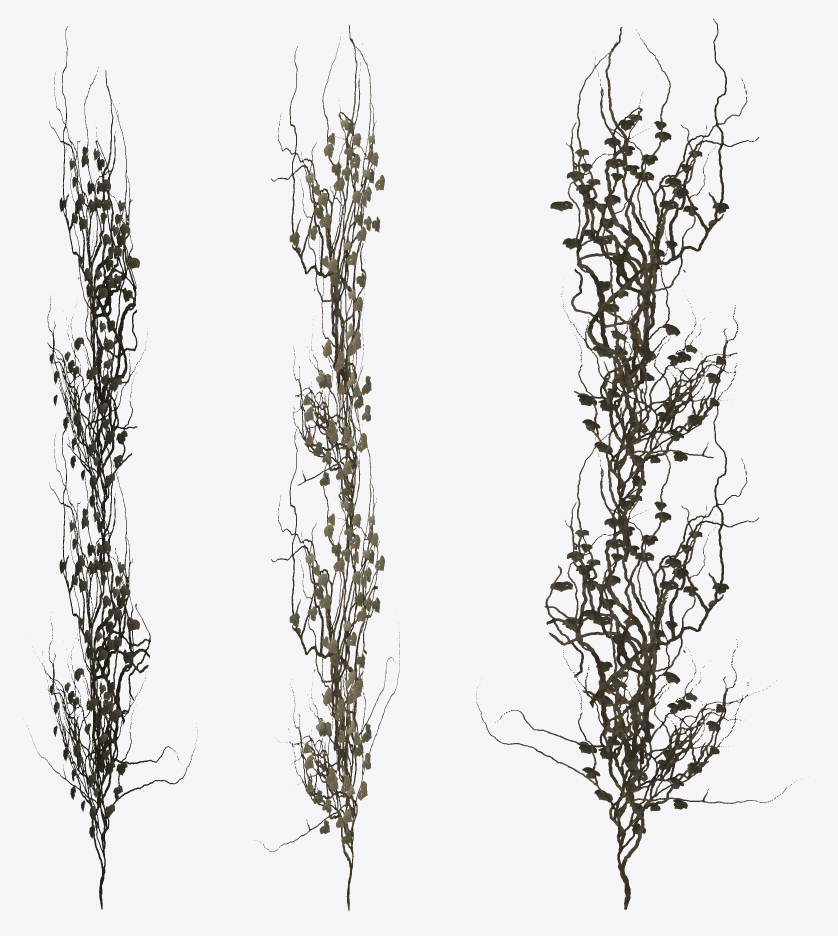
File: SM_Ivy_8.fbx
The picture shows the model from 3 angles, left to right: view 1: azimuth 30°, elevation 25°; view 2: azimuth 150°, elevation 25°; view 3: azimuth 270°, elevation 25°; orthographic projection. The views are drawn at different scales.
Parts seen in each view (by area): view 1: SM_Ivy_8_LOD0; view 2: SM_Ivy_8_LOD0; view 3: SM_Ivy_8_LOD0.
Part boxes in pixels (bbox=[...]): SM_Ivy_8_LOD0: bbox=[28, 26, 197, 909]; SM_Ivy_8_LOD0: bbox=[257, 25, 399, 910]; SM_Ivy_8_LOD0: bbox=[476, 19, 796, 909].
Size of the model in its own units: 27.36 by 240 by 634.
